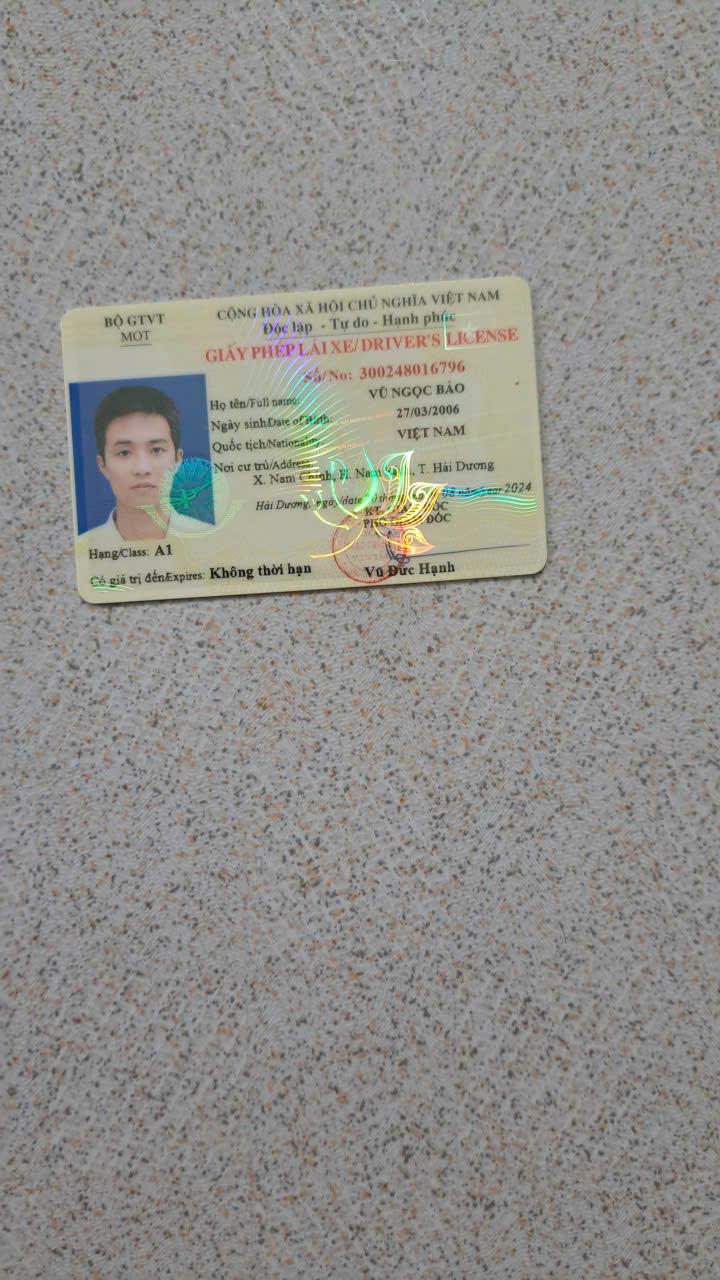gplx: (52, 271, 560, 615)
